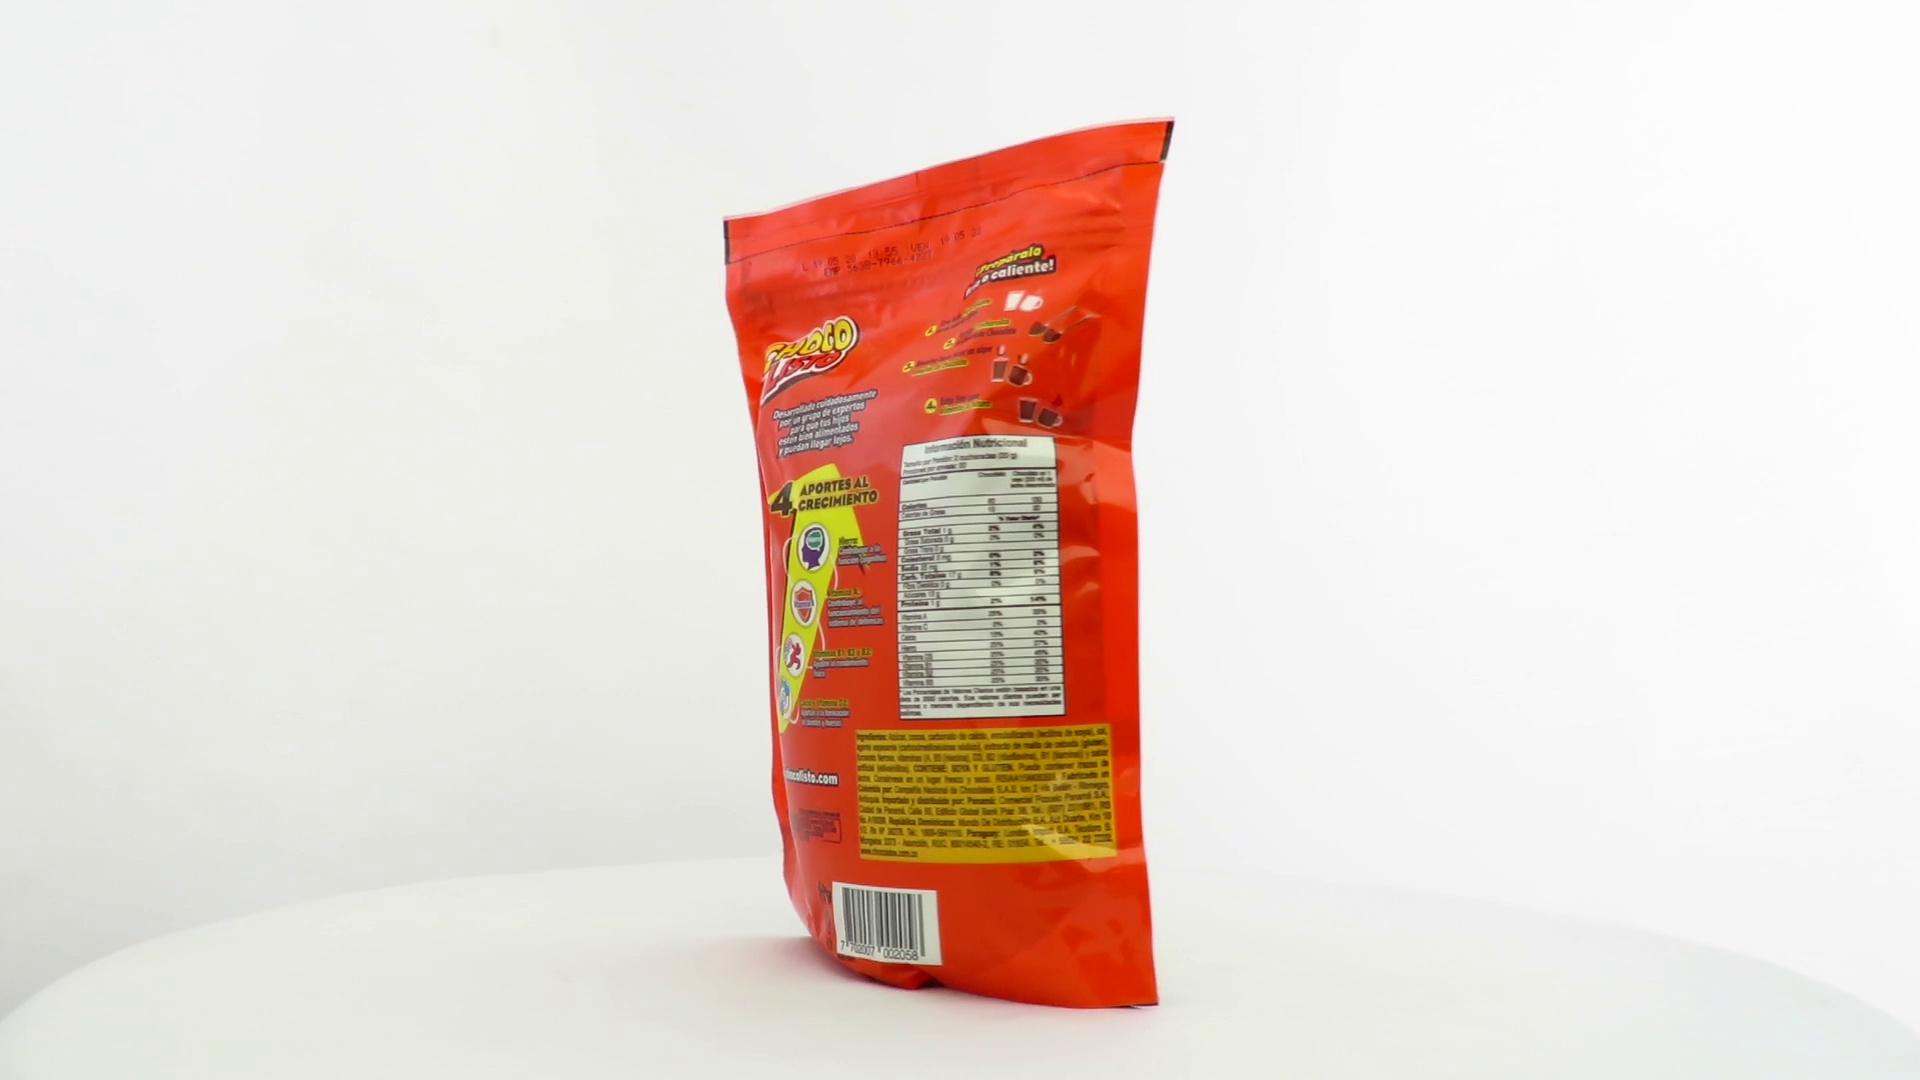COL0170103DYP40000: (717, 116, 1182, 1015)
